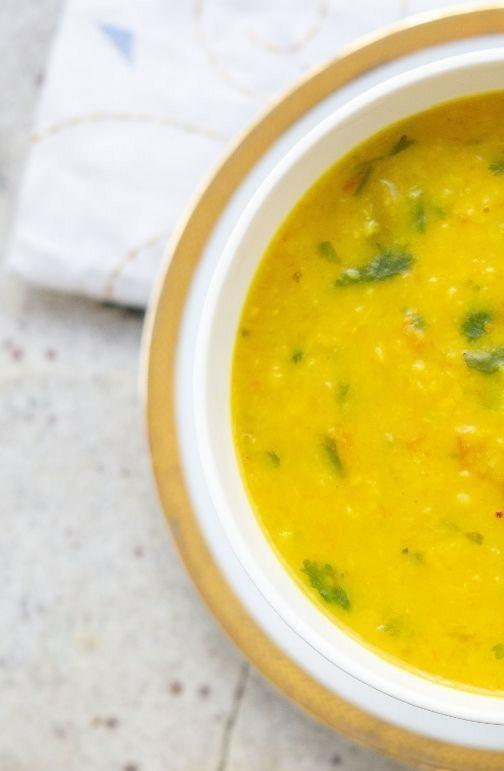Dal: (235, 85, 504, 691)
